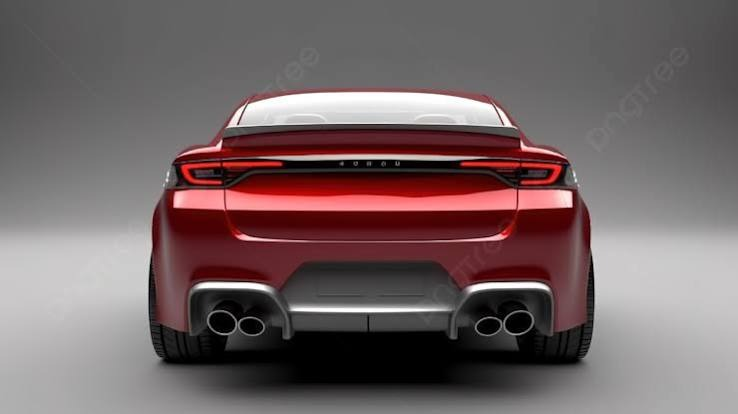car: (147, 80, 607, 373)
